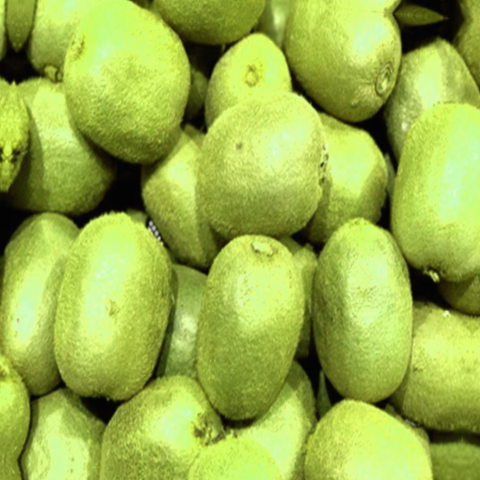kiwi: (188, 78, 362, 256), (44, 202, 186, 419), (288, 205, 444, 402), (44, 0, 204, 180), (186, 221, 317, 436), (375, 88, 480, 277)
